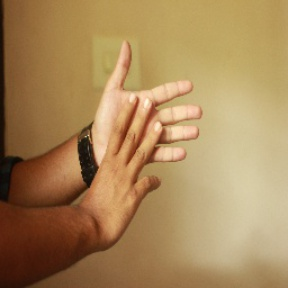M: (88, 39, 206, 205)
